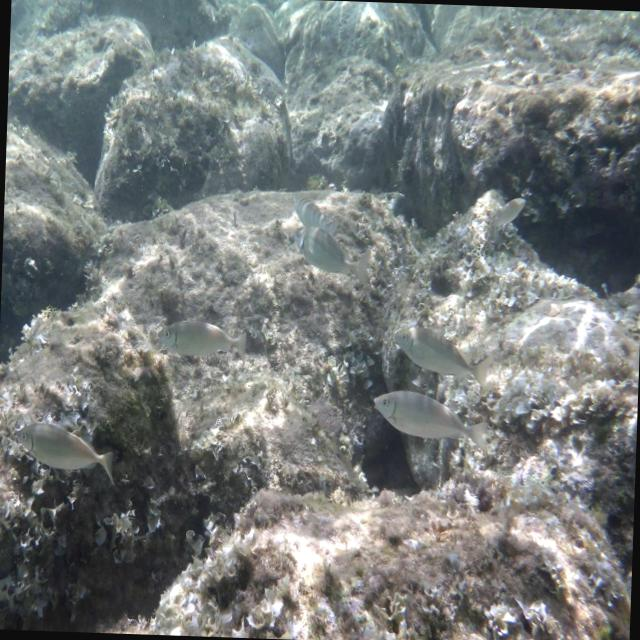Sokar Baligi: (366, 381, 499, 465)
